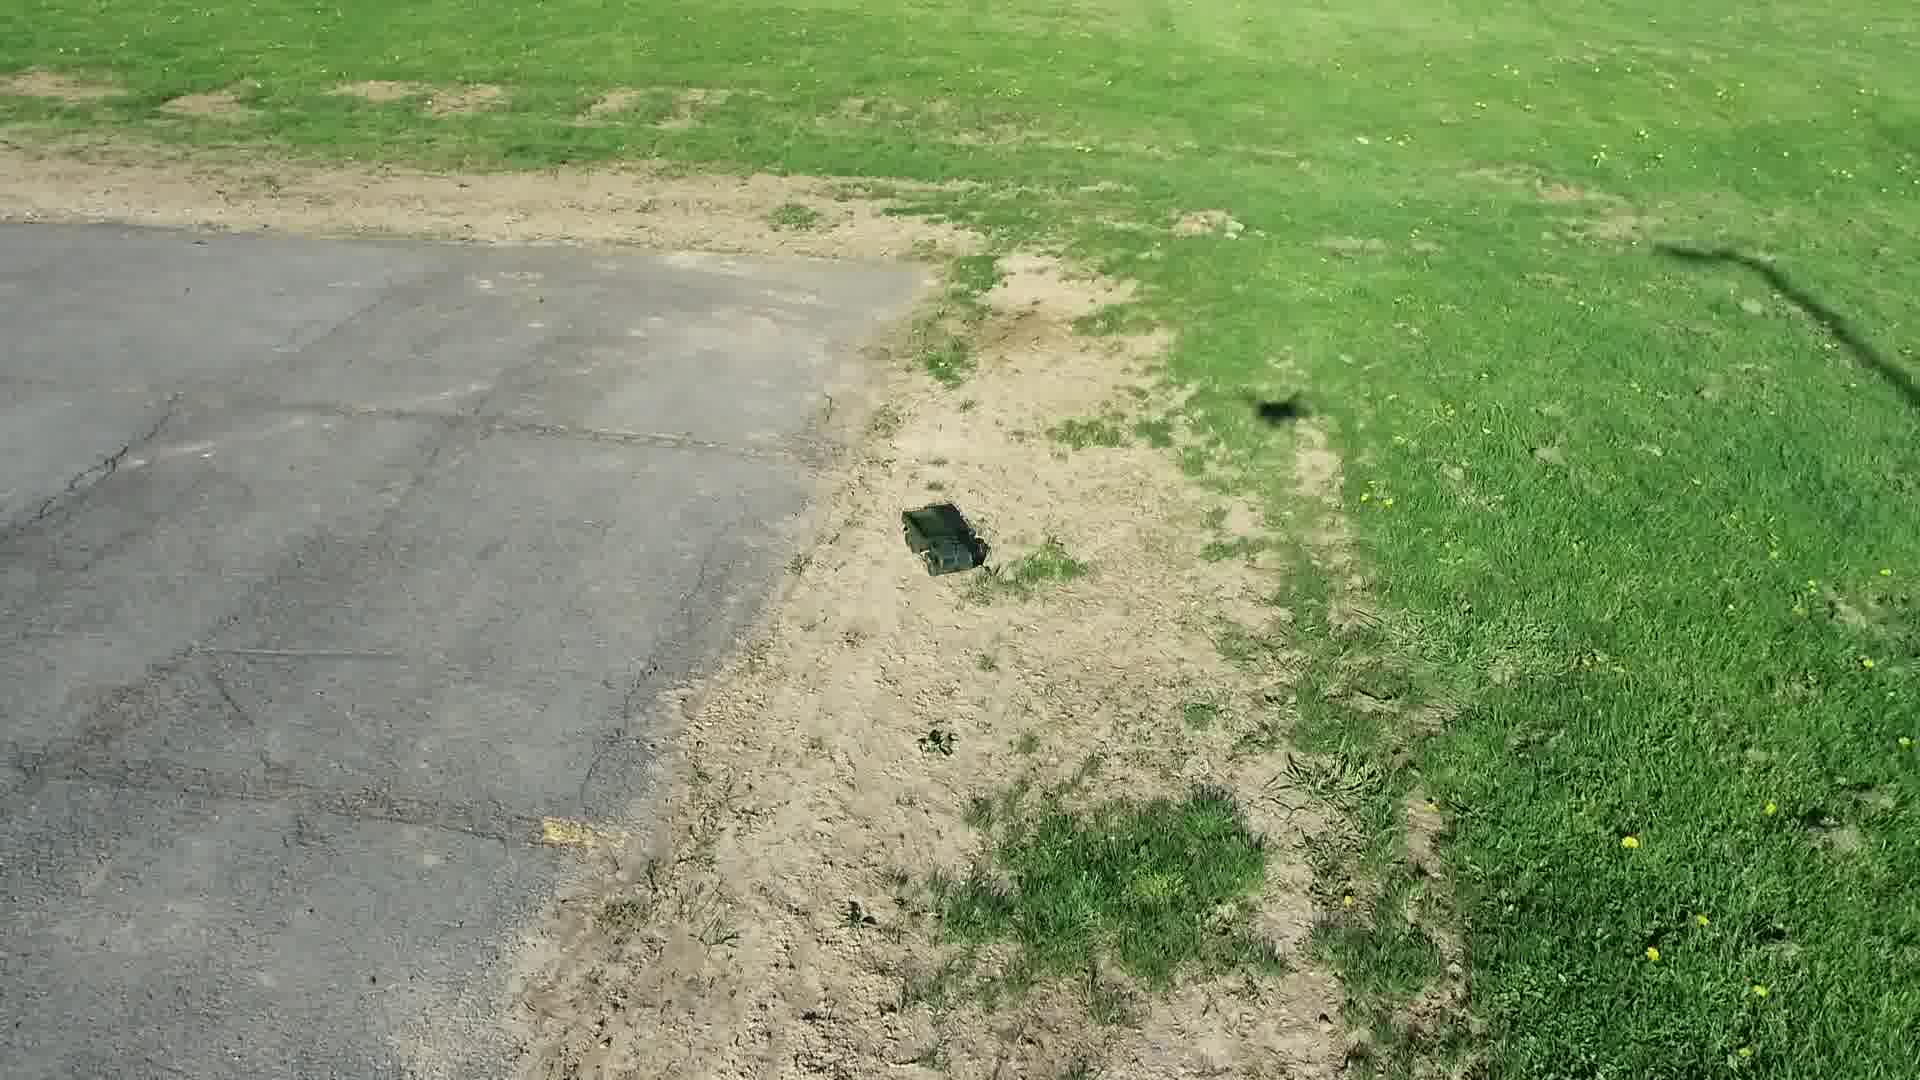transporter9: (889, 498, 994, 579)
